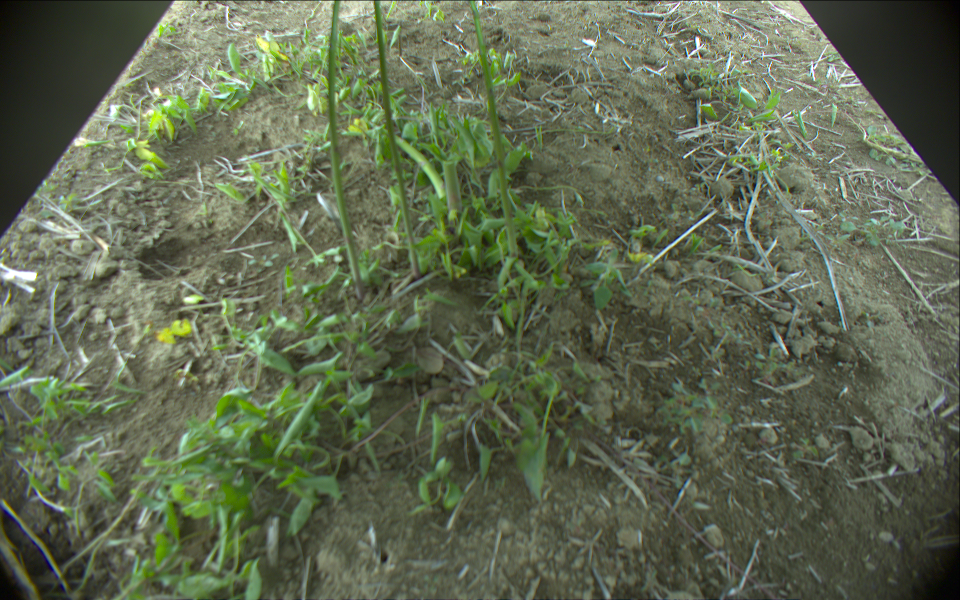aspa: (372, 1, 424, 277), (466, 1, 520, 259), (325, 1, 365, 299), (371, 118, 446, 198), (441, 159, 464, 214)
